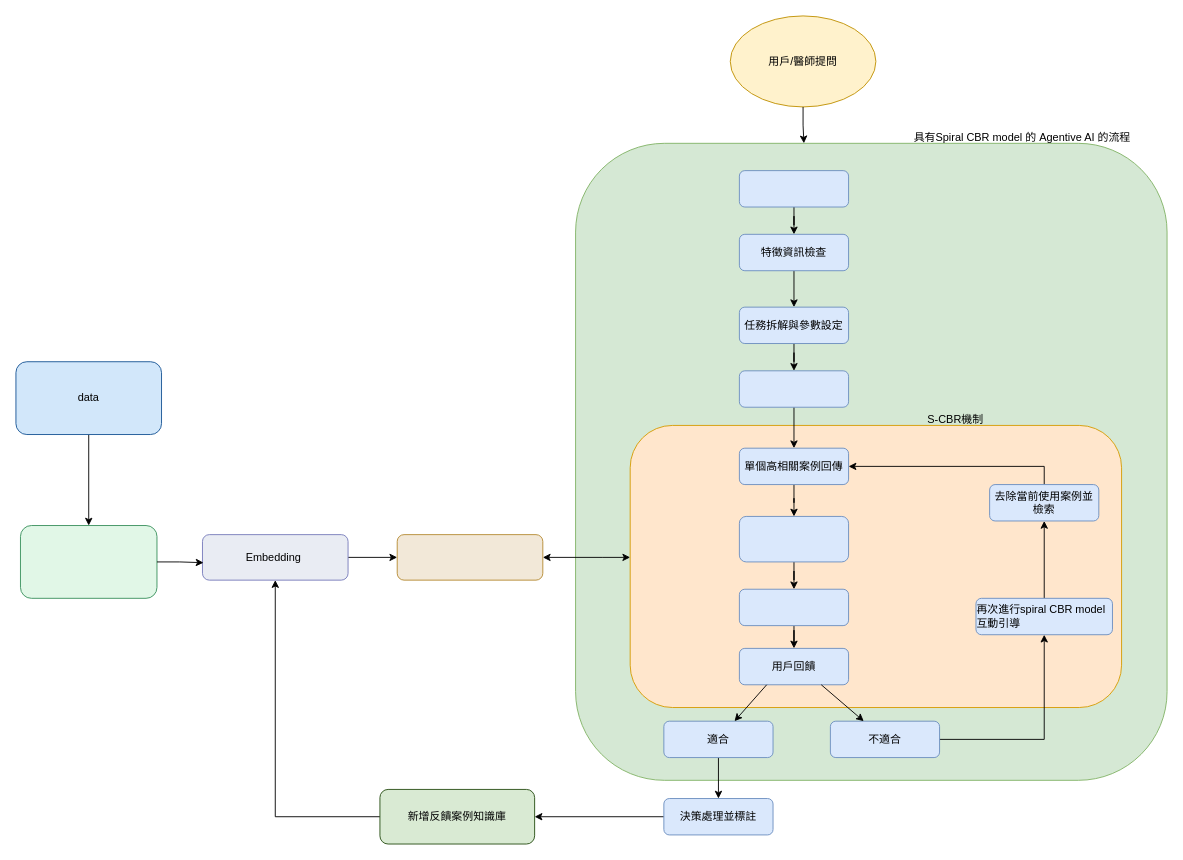
Image size: 1183x860. Some labels were removed from this diagram. The shapes that lost their labels are listed below. From the top down, each one's centre as x and y in pixels, then its label:
the point at 793,188: 進行問題特徵抽取
the point at 793,388: 多層屬性檢索
the point at 469,557: 具有RAG功能的向量知識庫
the point at 793,539: 針對回傳的高相關案例進行微調、加權、融合
the point at 88,561: 資料處理
the point at 793,607: 決策應用與監控
